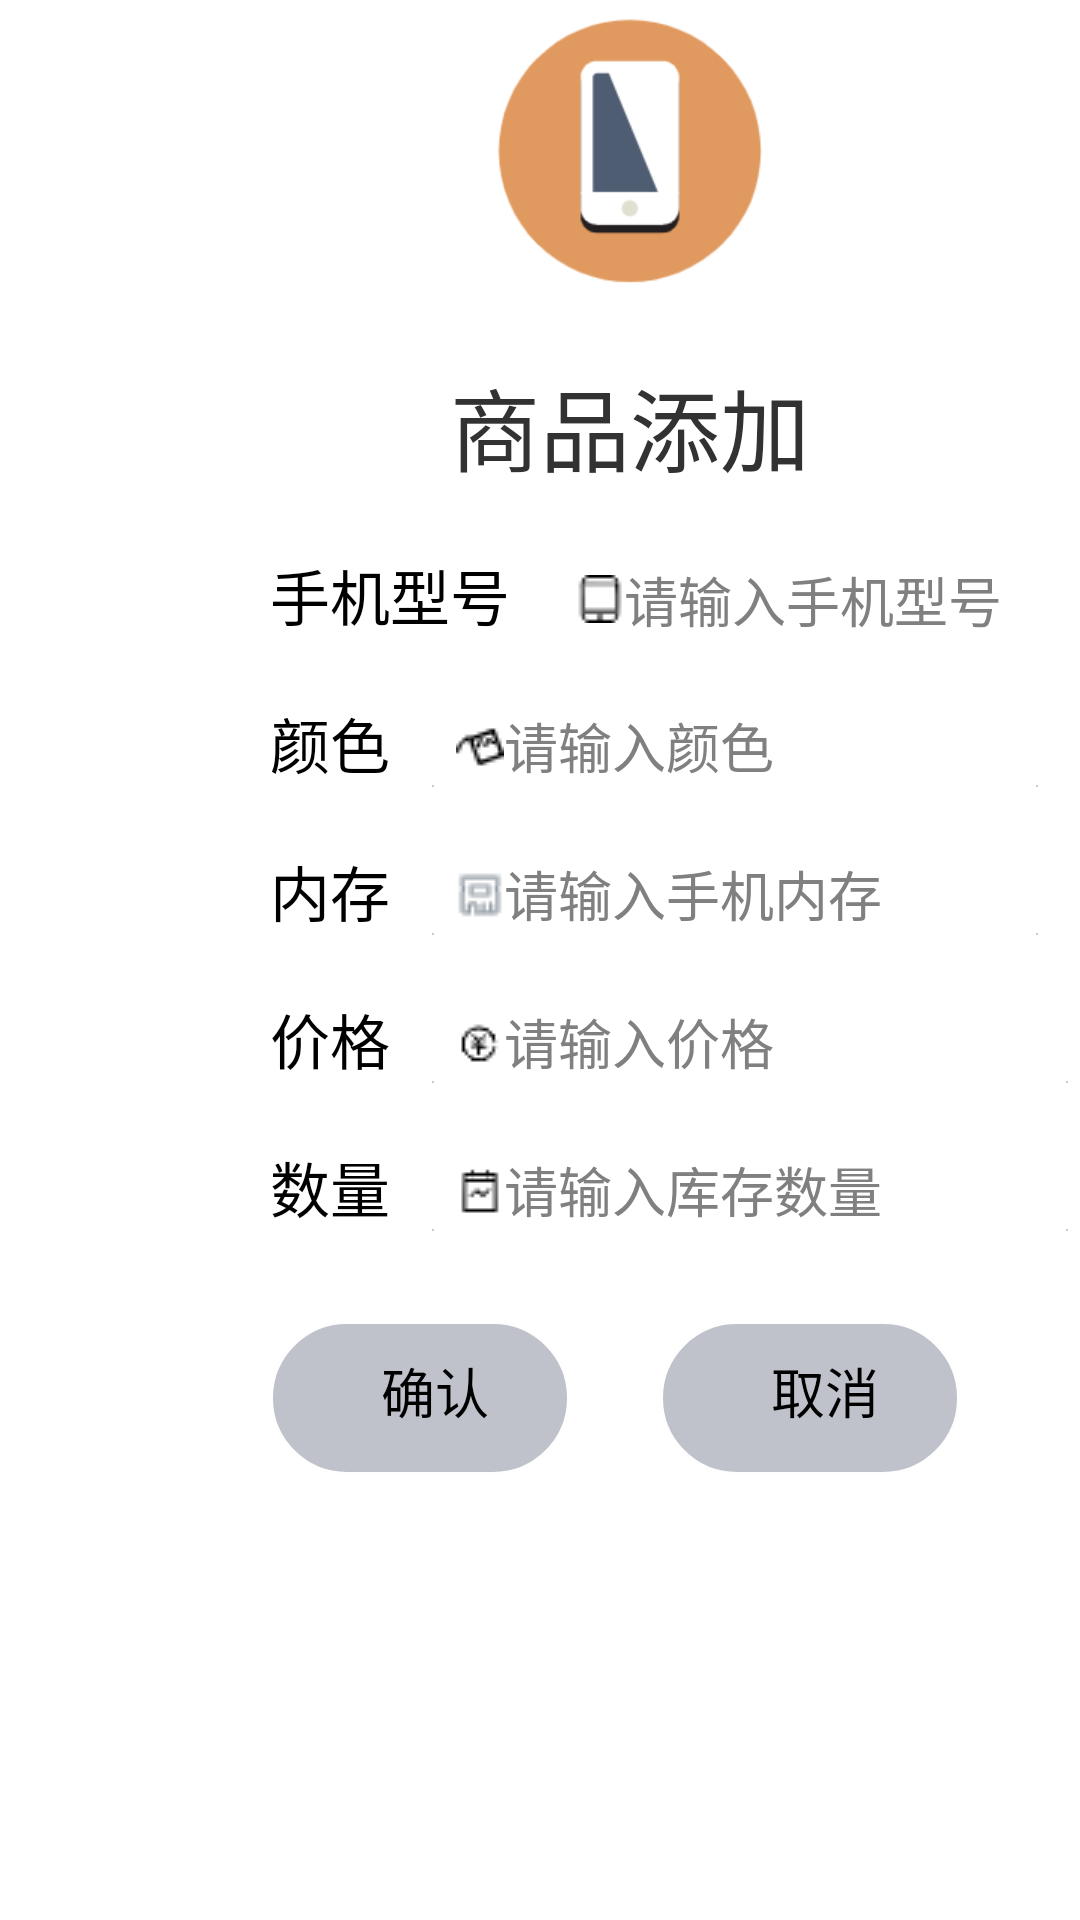

Point at icon controls on the screen. Image size 1080*1920, points as (x=x, y=y).
phone: (x=630, y=151)
